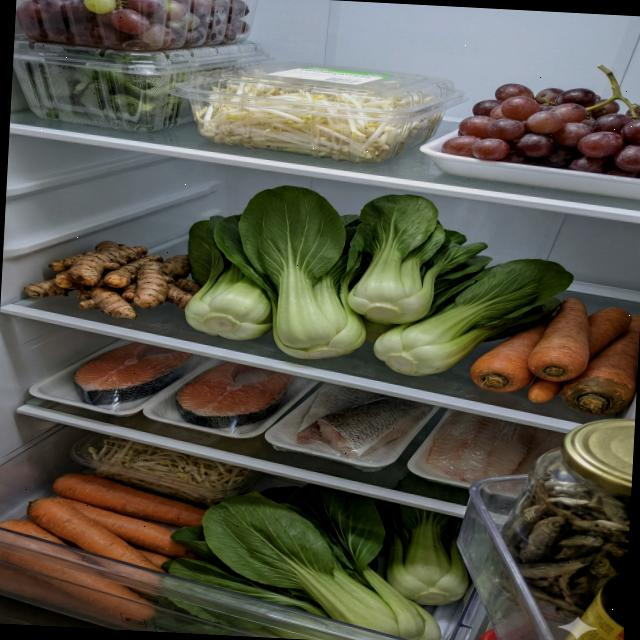anchovies: (496, 476, 632, 622)
bean_sprouts: (192, 64, 444, 168), (84, 435, 253, 508)
carrot: (0, 467, 208, 633), (467, 292, 640, 418)
fish: (422, 408, 568, 498), (294, 382, 436, 462), (72, 339, 210, 412), (172, 358, 294, 432)
grape: (437, 57, 640, 180), (14, 0, 253, 57)
pakchoy: (182, 180, 579, 384), (156, 475, 476, 640)
turmeric: (22, 236, 202, 324)
